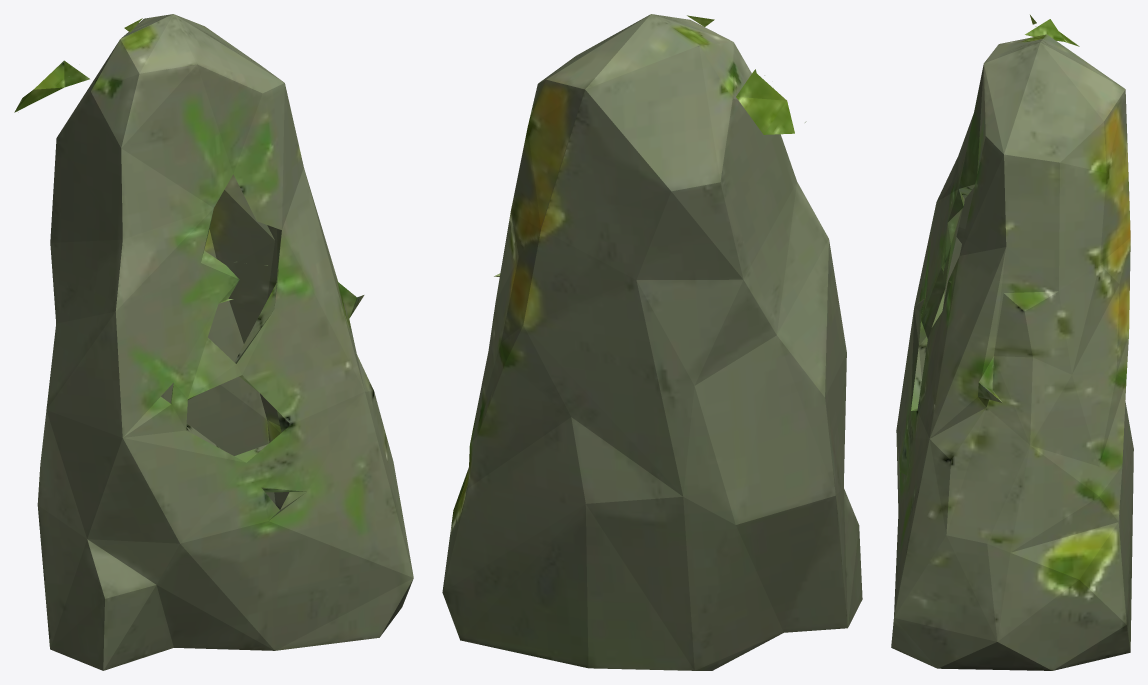
The model's file is druid-stone.glb.
The picture shows the model from 3 angles, left to right: view 1: azimuth 30°, elevation 25°; view 2: azimuth 150°, elevation 25°; view 3: azimuth 270°, elevation 25°; orthographic projection. The views are drawn at different scales.
Parts seen in each view (by area): view 1: druid-stone; view 2: druid-stone; view 3: druid-stone.
Boxes of the visible parts, x1,y1,x2,y2 form: druid-stone: (14, 14, 413, 670); druid-stone: (442, 14, 862, 670); druid-stone: (891, 15, 1133, 670).
Bounding box in the file's own units: 2.06 × 3.38 × 1.34.
Materials: 1 (1 with a texture image).
